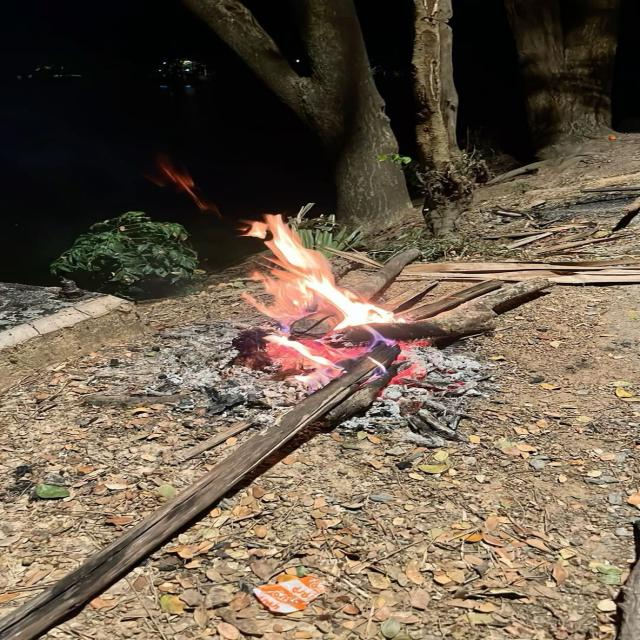fire: (238, 212, 407, 332), (264, 334, 333, 367)
